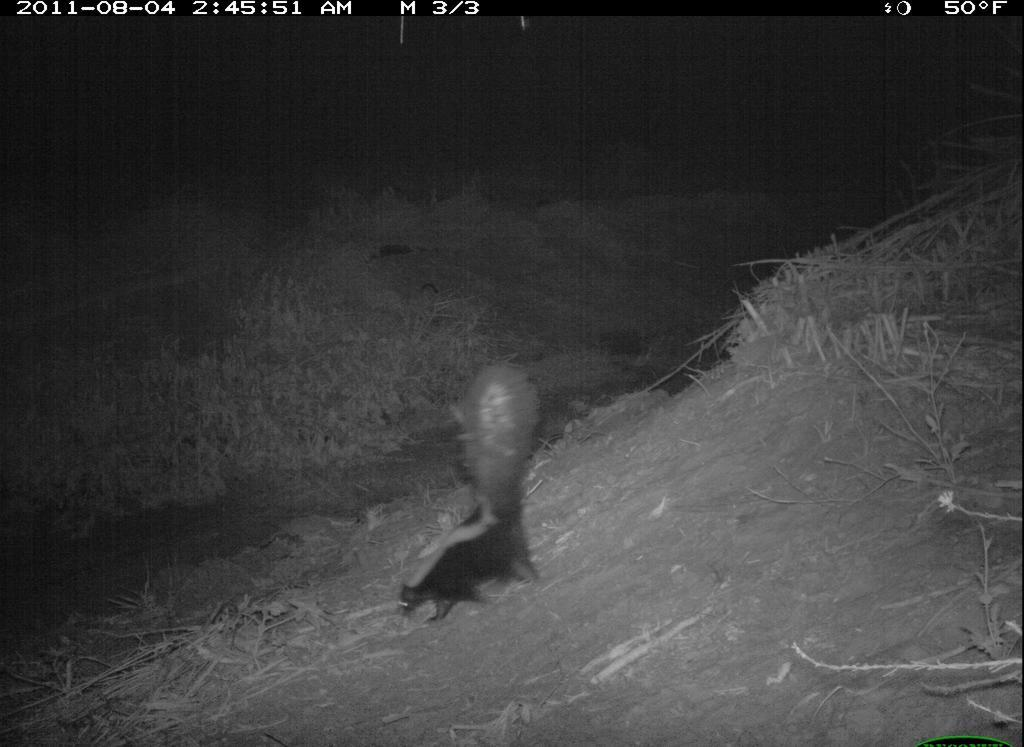skunk: (382, 355, 548, 634)
